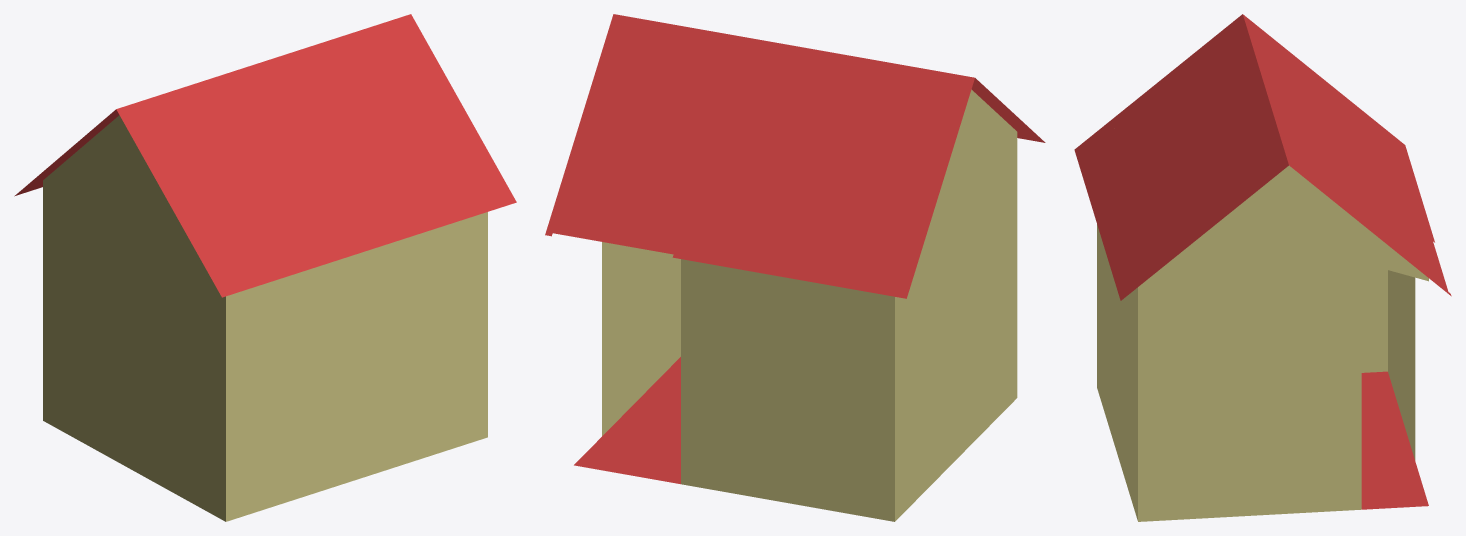
The picture shows the model from 3 angles, left to right: view 1: azimuth 30°, elevation 25°; view 2: azimuth 150°, elevation 25°; view 3: azimuth 270°, elevation 25°; orthographic projection. The views are drawn at different scales.
Bounding box in the file's own units: 14.94 × 14.05 × 14.67.
